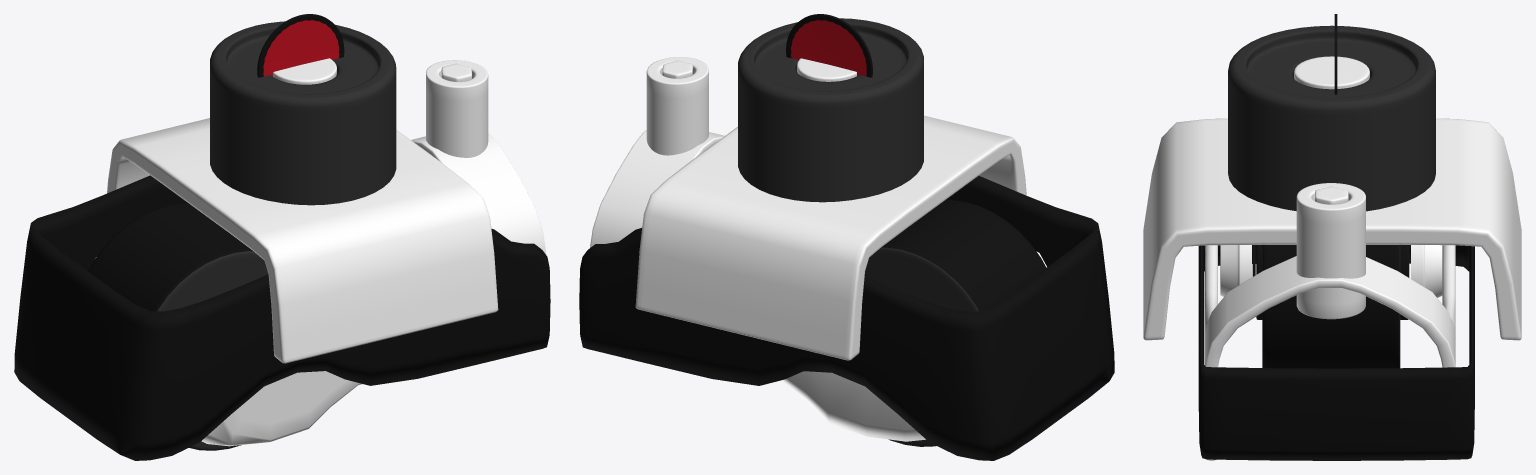
File: 5-smallwheel-A.dae
3 views of the same model, side by side, from view 1: azimuth 30°, elevation 25°; view 2: azimuth 150°, elevation 25°; view 3: azimuth 270°, elevation 25° (orthographic). The views are drawn at different scales.
Visible parts, largest first — view 1: Object012_PVC Fb Black_0, Object012_Chrome Matte_0, Object012_Black PVC Fb satin_0, Cylinder081; view 2: Object012_PVC Fb Black_0, Object012_Chrome Matte_0, Object012_Black PVC Fb satin_0, Cylinder081; view 3: Object012_Chrome Matte_0, Object012_PVC Fb Black_0, Object012_Black PVC Fb satin_0.
Boxes of the visible parts, x1,y1,x2,y2 form: Object012_PVC Fb Black_0: (14,175,550,460); Object012_Chrome Matte_0: (95,58,546,446); Object012_Black PVC Fb satin_0: (157,21,396,450); Cylinder081: (257,14,344,77); Object012_PVC Fb Black_0: (579,176,1114,460); Object012_Chrome Matte_0: (590,57,1046,441); Object012_Black PVC Fb satin_0: (738,18,978,446); Cylinder081: (786,14,872,77); Object012_Chrome Matte_0: (1143,56,1521,460); Object012_PVC Fb Black_0: (1198,245,1474,460); Object012_Black PVC Fb satin_0: (1228,25,1435,367).
Bounding box in the file's own units: 0.105 × 0.0776 × 0.0908.
